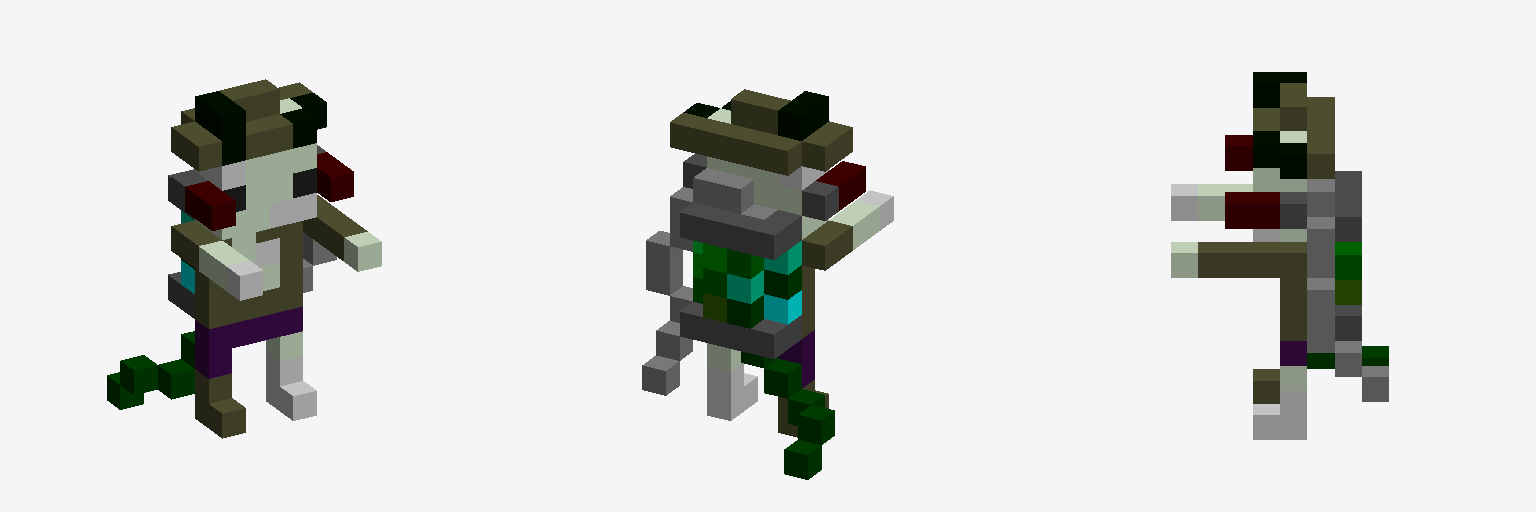
3 renders of one model, left to right at view 1: azimuth 30°, elevation 25°; view 2: azimuth 150°, elevation 25°; view 3: azimuth 270°, elevation 25°, orthographic.
Visible parts, largest first — view 1: object 1; view 2: object 1; view 3: object 1.
Part boxes in pixels (left/top/right/bottom): object 1: left=107, top=79, right=381, bottom=438; object 1: left=642, top=89, right=893, bottom=479; object 1: left=1171, top=72, right=1388, bottom=439.
Size of the model in its own units: 0.8 by 1.3 by 0.8.
1 materials, 1 textured.